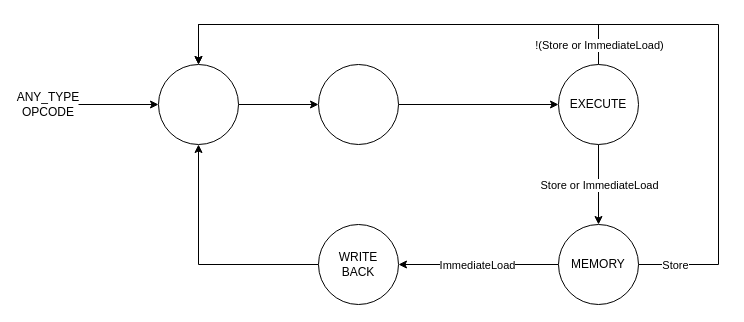
This 744x322 diagram has some shape labels left out. Each missing label, with the box of its shape:
DECODE: (318, 64, 398, 144)
FETCH: (158, 64, 238, 144)
